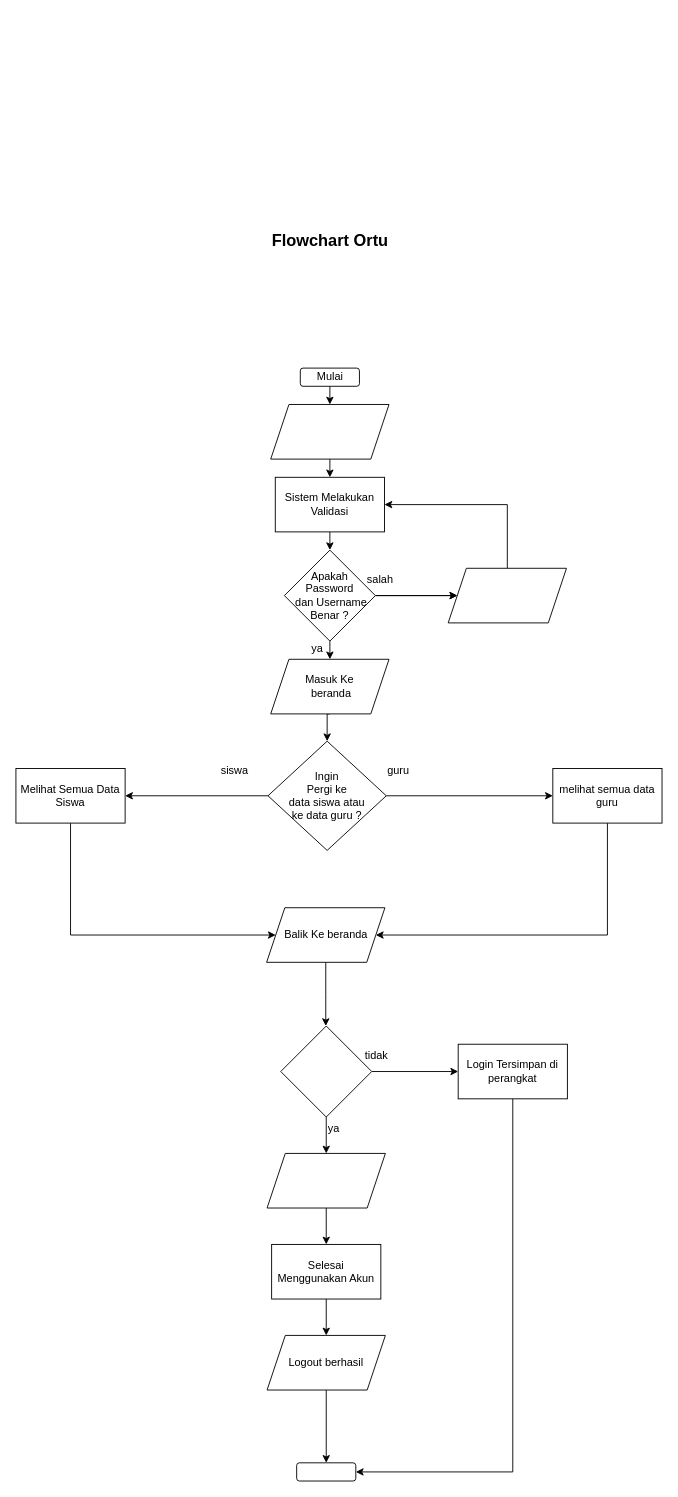
Some shapes in this 678 by 1497 pixel diagram are drawn without their labels. The shapes that lost their labels are listed below. From the top down, each one's box as (x1, y1, x2, y2) in pixels, then its label:
(270, 404, 389, 459): input username dan passoword yang sudah terdaftar
(447, 567, 566, 623): Input Ulang Username dan Passowrd
(280, 1025, 372, 1117): Ingin Logout?
(266, 1153, 385, 1208): Logout akun
(296, 1462, 356, 1481): Selesai
